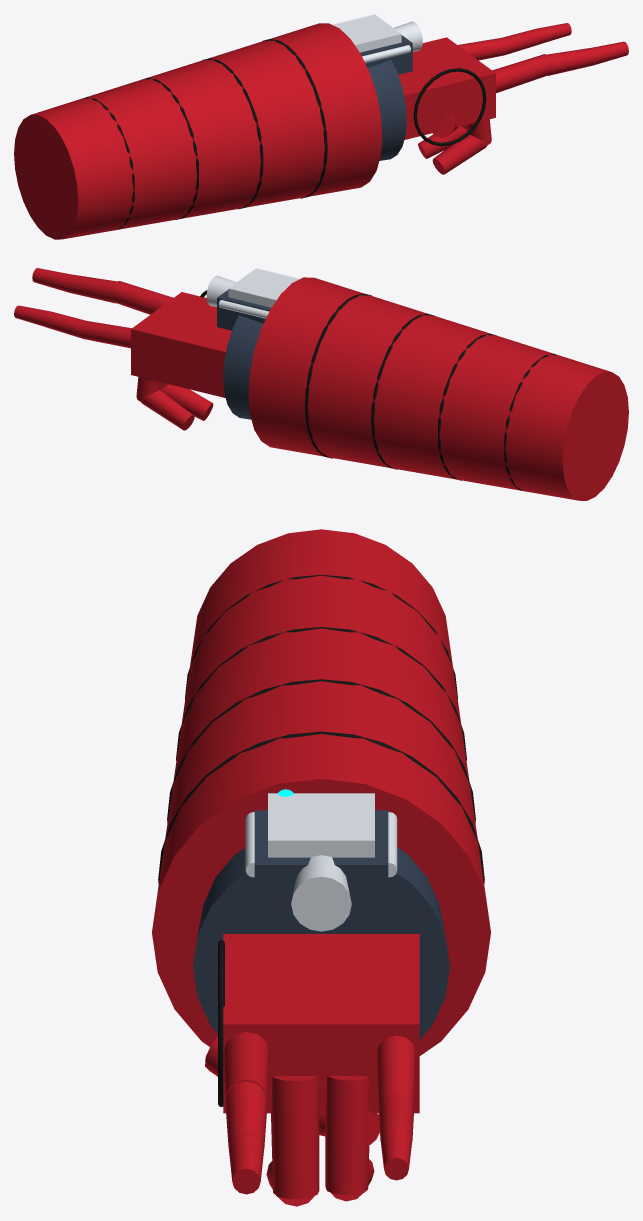
File: spiderman-hand.glb
3 views of the same model, one above another, from view 1: azimuth 30°, elevation 25°; view 2: azimuth 150°, elevation 25°; view 3: azimuth 270°, elevation 25° (orthographic). The views are drawn at different scales.
Visible parts, largest first — view 1: spiderman_arm, spiderman_glove, finger_index, web_shooter_housing, finger_pinky, finger_middle, finger_ring, web_nozzle, finger_thumb; view 2: spiderman_arm, spiderman_glove, web_shooter_housing, finger_index, finger_pinky, finger_ring, finger_middle, web_nozzle; view 3: spiderman_arm, spiderman_glove, web_shooter_housing, finger_index, finger_middle, finger_ring, finger_pinky, web_nozzle.
Boxes of the visible parts, x1,y1,x2,y2 form: spiderman_arm: (14,23,406,239); spiderman_glove: (398,37,495,146); finger_index: (492,41,628,93); web_shooter_housing: (332,14,412,74); finger_pinky: (458,23,571,60); finger_middle: (432,119,491,174); finger_ring: (418,125,467,158); web_nozzle: (394,21,422,51); finger_thumb: (432,113,458,137); spiderman_arm: (223,277,628,500); spiderman_glove: (131,290,231,397); web_shooter_housing: (217,268,299,330); finger_index: (32,268,173,314); finger_pinky: (14,305,131,348); finger_ring: (136,377,194,430); finger_middle: (159,382,213,420); web_nozzle: (206,275,236,306); spiderman_arm: (152,529,490,1055); spiderman_glove: (218,934,419,1113); web_shooter_housing: (245,789,397,921); finger_index: (223,1031,269,1194); finger_middle: (266,1075,319,1206); finger_ring: (325,1076,374,1201); finger_pinky: (377,1035,415,1180); web_nozzle: (291,855,351,931).
Size of the model in its own units: 7.25 by 2 by 1.9.
